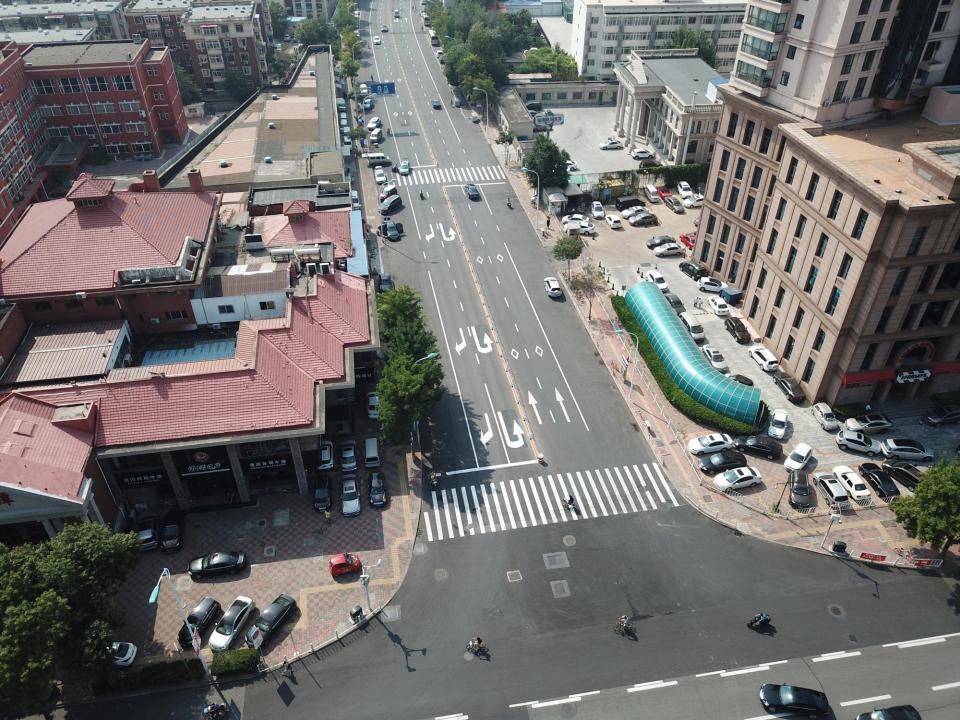bus: (428, 30, 442, 46), (421, 12, 432, 26)
car: (755, 679, 832, 719), (244, 593, 297, 649), (208, 595, 256, 653), (174, 596, 222, 648), (77, 633, 138, 671), (187, 549, 247, 580), (883, 457, 931, 494), (832, 462, 872, 504), (859, 461, 901, 500), (731, 432, 784, 460), (834, 430, 884, 459), (812, 470, 849, 508), (880, 437, 934, 463), (713, 465, 762, 492), (158, 508, 187, 552), (133, 508, 161, 550), (772, 370, 807, 402), (786, 469, 813, 509), (338, 473, 362, 517), (843, 413, 893, 434), (697, 452, 749, 472), (922, 400, 960, 427), (781, 440, 813, 472), (687, 433, 733, 454), (747, 344, 780, 372), (700, 344, 728, 374), (722, 372, 756, 396), (367, 470, 389, 507), (810, 402, 838, 431), (724, 316, 753, 344), (767, 408, 791, 440), (313, 474, 333, 512), (337, 438, 359, 472), (314, 438, 334, 472), (362, 435, 382, 467), (365, 391, 386, 419), (562, 220, 595, 236), (377, 194, 403, 214), (379, 219, 405, 239), (696, 278, 728, 294), (645, 270, 668, 292), (664, 292, 686, 314), (706, 295, 728, 316), (646, 234, 676, 249), (654, 243, 685, 257), (542, 276, 562, 297), (549, 157, 579, 171), (662, 195, 685, 213), (692, 212, 717, 228), (679, 231, 701, 249), (378, 271, 395, 294), (620, 206, 650, 219), (628, 212, 658, 225), (682, 194, 708, 209), (378, 184, 398, 202), (676, 180, 694, 200), (638, 158, 665, 170), (597, 138, 624, 150), (590, 200, 606, 220), (561, 215, 590, 225), (694, 180, 710, 198), (630, 148, 654, 160), (464, 183, 481, 199), (373, 164, 386, 184), (366, 116, 383, 131), (605, 214, 622, 229), (656, 185, 673, 200), (348, 189, 360, 210), (521, 100, 542, 112), (523, 108, 541, 120), (400, 160, 411, 176), (343, 135, 352, 151), (430, 98, 442, 109), (363, 97, 373, 109), (359, 84, 368, 95), (438, 55, 449, 64), (372, 35, 381, 45), (380, 23, 388, 32), (275, 43, 283, 50), (283, 34, 291, 41), (436, 50, 444, 57), (421, 7, 429, 14), (356, 44, 361, 55), (352, 20, 358, 28), (354, 30, 360, 38), (293, 34, 299, 42), (353, 7, 359, 14), (352, 11, 358, 18)
van: (678, 311, 707, 343), (677, 260, 709, 281), (614, 194, 646, 211), (527, 114, 553, 132), (361, 152, 391, 165), (645, 184, 660, 203), (369, 127, 382, 144), (338, 118, 348, 133), (342, 124, 352, 139), (337, 99, 347, 112), (338, 110, 346, 122), (394, 8, 401, 18), (427, 28, 435, 36)
